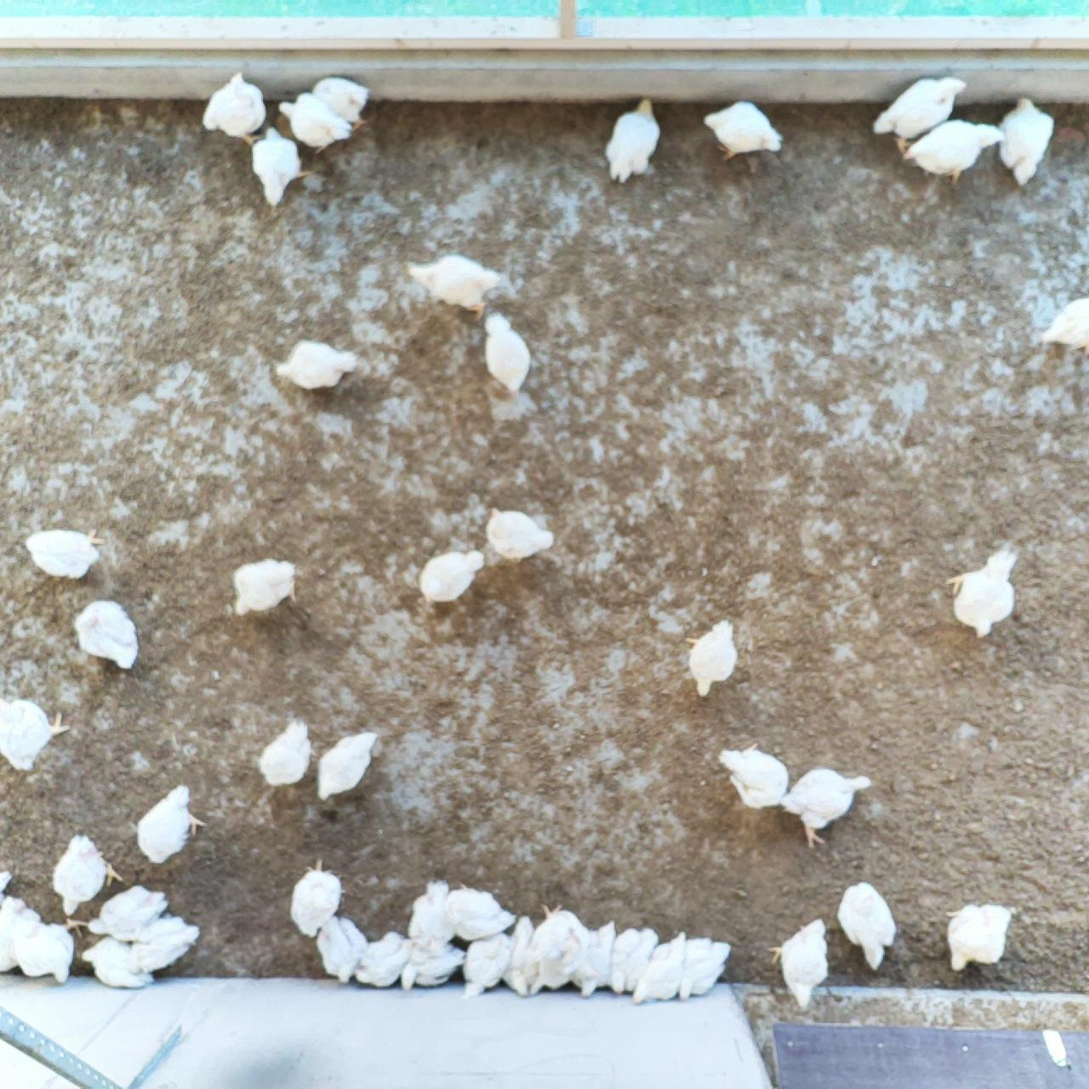chicken: (867, 72, 969, 157), (779, 763, 875, 852), (898, 117, 1008, 192), (947, 546, 1023, 643), (402, 249, 503, 321), (523, 900, 595, 999), (131, 780, 209, 869), (765, 915, 832, 1011), (991, 93, 1058, 189), (599, 93, 667, 187), (47, 831, 123, 915), (833, 877, 898, 973), (938, 898, 1018, 973), (699, 97, 787, 165), (0, 693, 72, 776), (16, 912, 93, 988), (71, 597, 145, 676), (199, 67, 269, 149), (676, 616, 740, 705), (285, 855, 349, 942), (84, 881, 171, 944), (314, 728, 386, 804), (20, 523, 111, 583), (248, 123, 312, 208), (716, 739, 790, 812), (124, 910, 202, 979), (630, 929, 696, 1009), (226, 550, 301, 620), (276, 90, 353, 157), (438, 881, 519, 944), (80, 932, 159, 996), (271, 337, 362, 392), (479, 502, 555, 567), (459, 925, 519, 1007), (254, 715, 319, 790), (403, 876, 461, 954), (568, 918, 621, 1003), (481, 307, 531, 397), (606, 922, 661, 1003), (418, 547, 487, 611), (676, 934, 736, 1003), (499, 911, 544, 1002), (310, 912, 364, 986), (309, 73, 373, 133), (399, 936, 466, 993), (352, 928, 412, 990), (1035, 292, 1089, 353), (0, 891, 36, 978)
